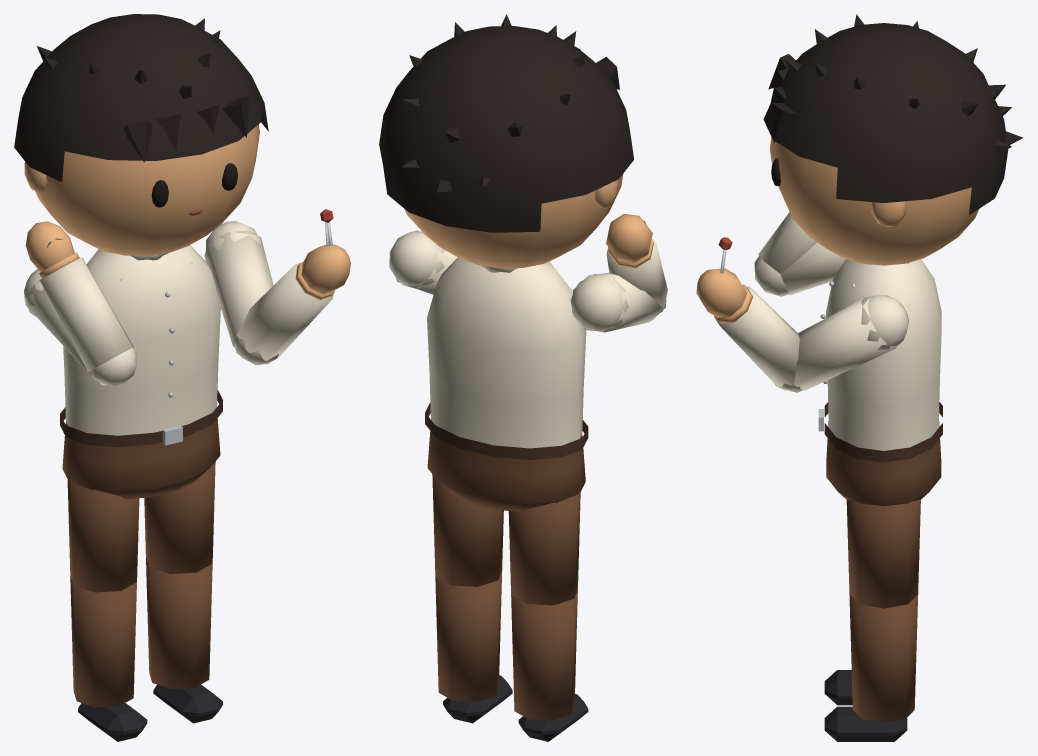
File: east_gem_dealer.glb
3 views of the same model, side by side, from view 1: azimuth 30°, elevation 25°; view 2: azimuth 150°, elevation 25°; view 3: azimuth 270°, elevation 25° (orthographic).
Visible parts, largest first — view 1: head, body, shin_L, shin_R, forearm_R, leg_R, forearm_L, leg_L, arm_L, arm_R; view 2: head, body, shin_L, shin_R, leg_R, leg_L, arm_R, forearm_R, arm_L; view 3: head, body, shin_L, leg_L, arm_L, forearm_L, arm_R, forearm_R, shin_R.
Boxes of the visible parts, box(x1,y1,x2,y2) form: head: box(14, 14, 268, 255); body: box(60, 245, 222, 499); shin_L: box(146, 557, 222, 723); shin_R: box(70, 575, 147, 741); forearm_R: box(25, 221, 134, 385); leg_R: box(67, 480, 139, 592); forearm_L: box(234, 244, 350, 363); leg_L: box(144, 462, 215, 573); arm_L: box(204, 221, 278, 365); arm_R: box(24, 269, 137, 385); head: box(379, 14, 633, 268); body: box(425, 257, 588, 511); shin_L: box(435, 569, 512, 723); shin_R: box(511, 588, 588, 741); leg_R: box(508, 492, 580, 605); leg_L: box(432, 474, 503, 586); arm_R: box(570, 272, 666, 332); forearm_R: box(606, 214, 667, 313); arm_L: box(389, 230, 457, 294); head: box(763, 14, 1023, 265); body: box(818, 259, 942, 505); shin_L: box(824, 594, 918, 741); leg_L: box(846, 499, 920, 608); arm_L: box(774, 294, 909, 392); forearm_L: box(696, 268, 800, 390); arm_R: box(754, 242, 845, 296); forearm_R: box(758, 212, 816, 295); shin_R: box(824, 670, 852, 705).
Size of the model in its own units: 0.5636 by 1.48 by 0.6406.
